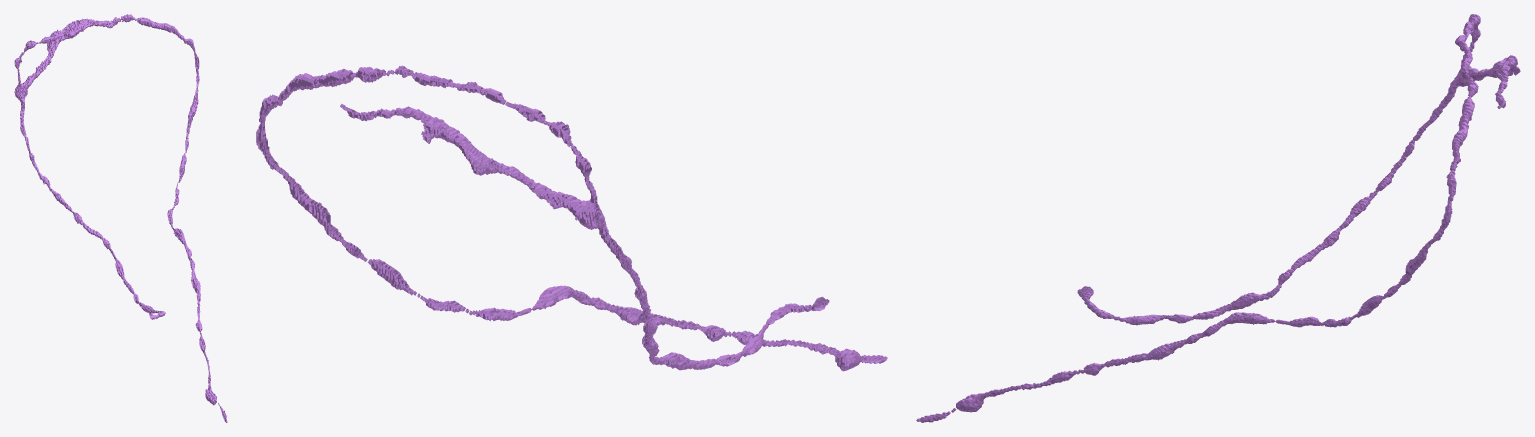
Rendered from SVV_SIBVL.gltf.
3 renders of one model, left to right at view 1: azimuth 30°, elevation 25°; view 2: azimuth 150°, elevation 25°; view 3: azimuth 270°, elevation 25°, orthographic. The views are drawn at different scales.
Parts seen in each view (by area): view 1: SIBVL; view 2: SIBVL; view 3: SIBVL.
Boxes of the visible parts, <box> form: SIBVL: <box>14,14,227,422</box>; SIBVL: <box>256,65,887,371</box>; SIBVL: <box>916,14,1520,422</box>.
Bounding box in the file's own units: 116687 × 158994 × 215966.
